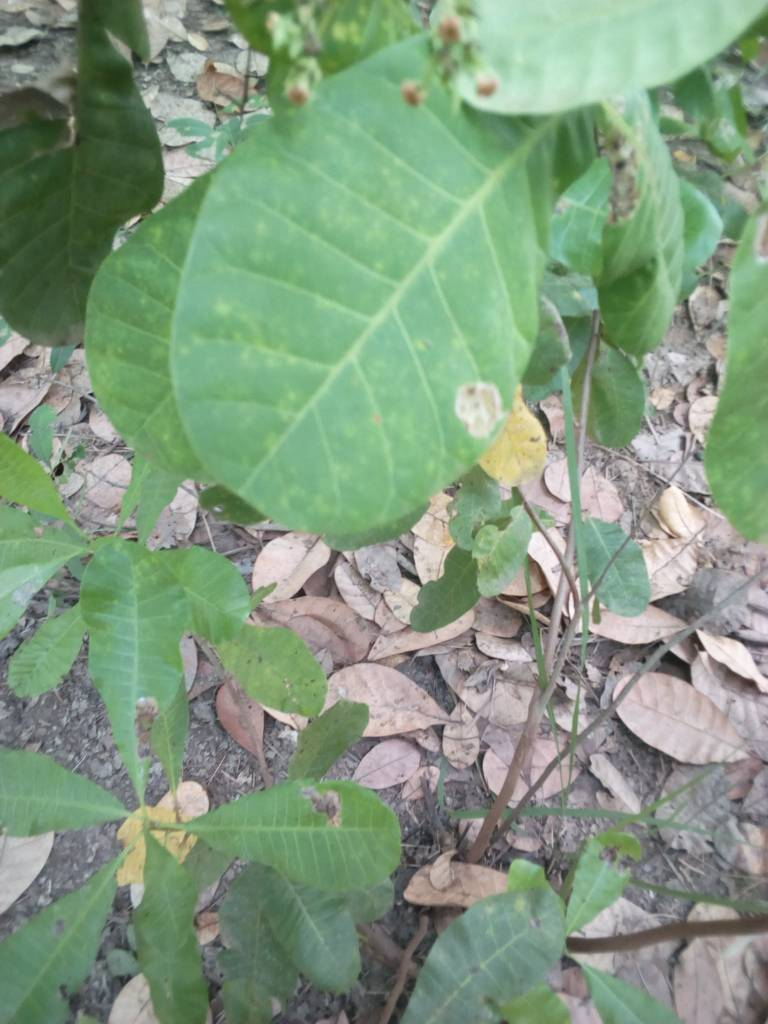Alternariose: (80, 75, 540, 550)
